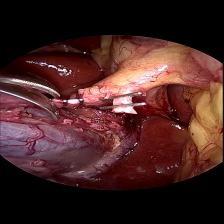Scissors: (1, 70, 67, 122)
